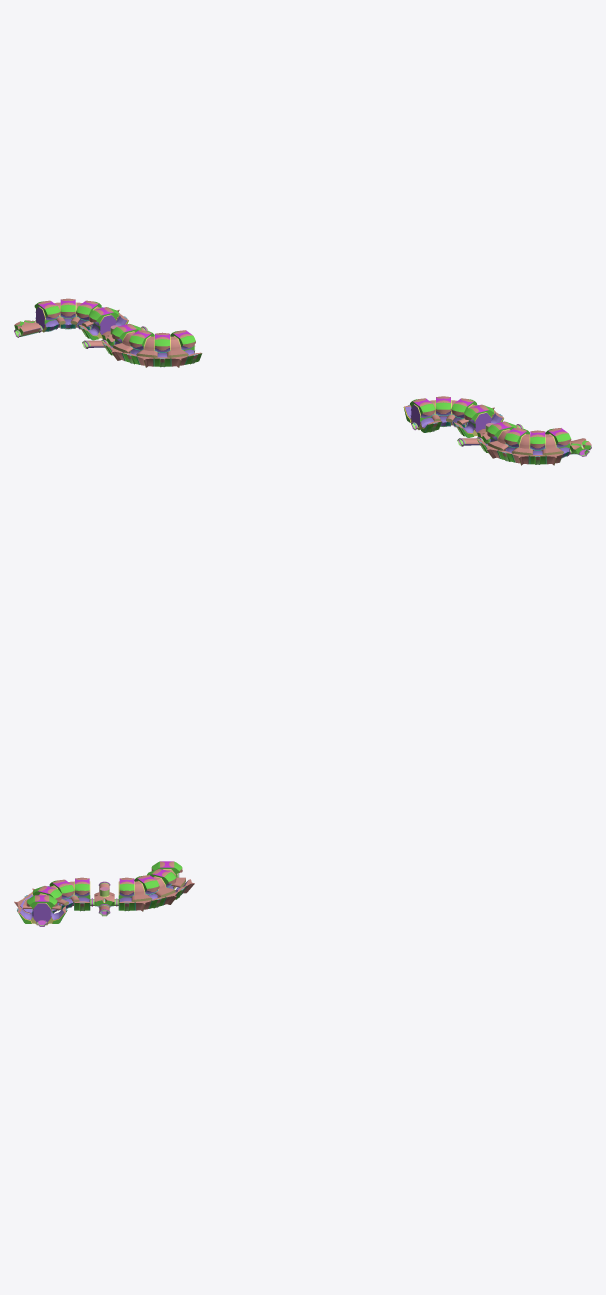
The model's file is gemini_connector.fbx.
3 views of the same model, one above another, from view 1: azimuth 30°, elevation 25°; view 2: azimuth 210°, elevation 25°; view 3: azimuth 270°, elevation 25° (orthographic). The views are drawn at different scales.
Visible parts, largest first — view 1: cluster_68, cluster_54; view 2: cluster_54, cluster_68; view 3: cluster_54, cluster_68.
Boxes of the visible parts, <box> form: cluster_68: <box>102,323,202,367</box>; cluster_54: <box>34,298,128,340</box>; cluster_54: <box>477,421,571,465</box>; cluster_68: <box>403,396,503,437</box>; cluster_54: <box>116,861,194,911</box>; cluster_68: <box>14,877,92,926</box>.
Size of what is drawn, in the model's own units: 2194630 by 147740 by 1421942.
